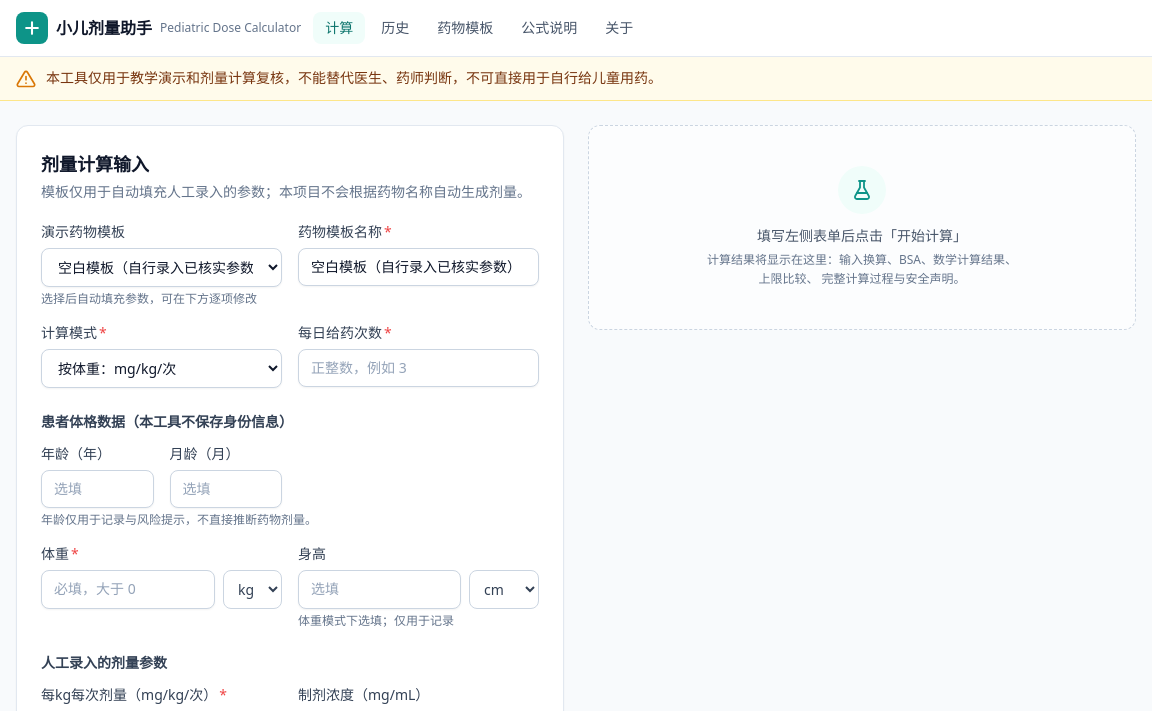
Test: 页面与按钮冒烟测试 › 隐私说明在历史页可见
The width and height of the screenshot is (1152, 711).
What coordinates should you click on to do the following:
click the link "历史"
I would click on:
 (395, 28)
Its box is [381,18,409,37].
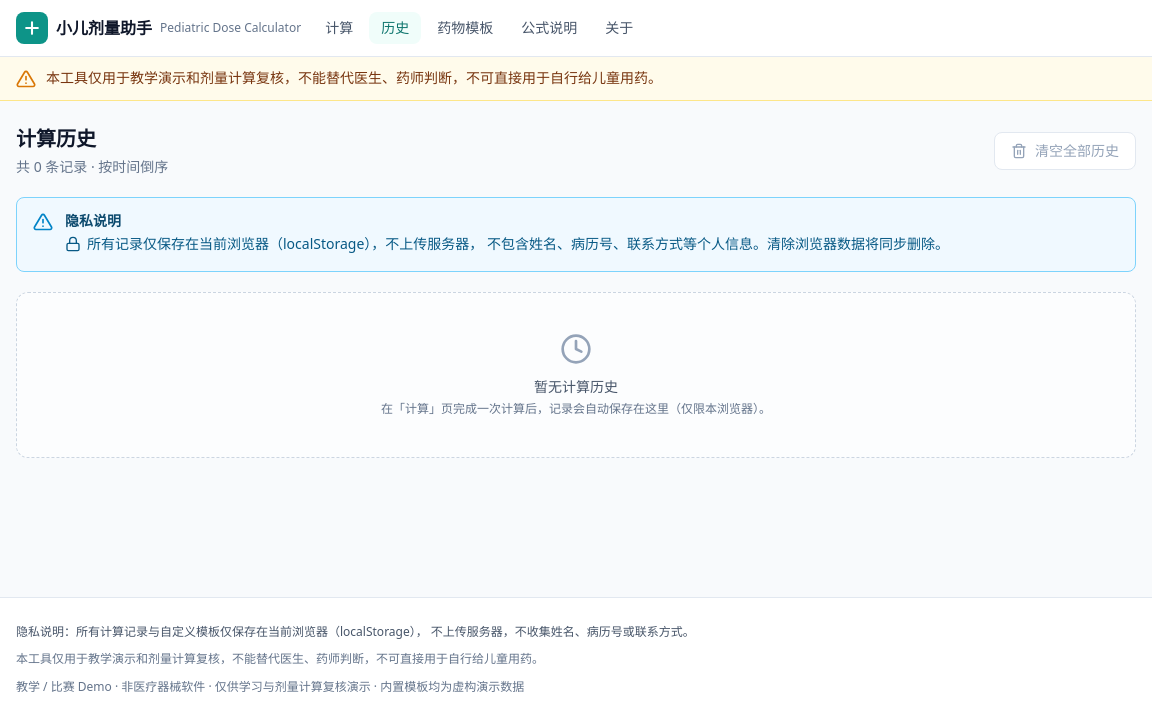
Expected: the text "所有记录仅保存在当前浏览器（localStorage）" is shown, [87,234,949,252]
